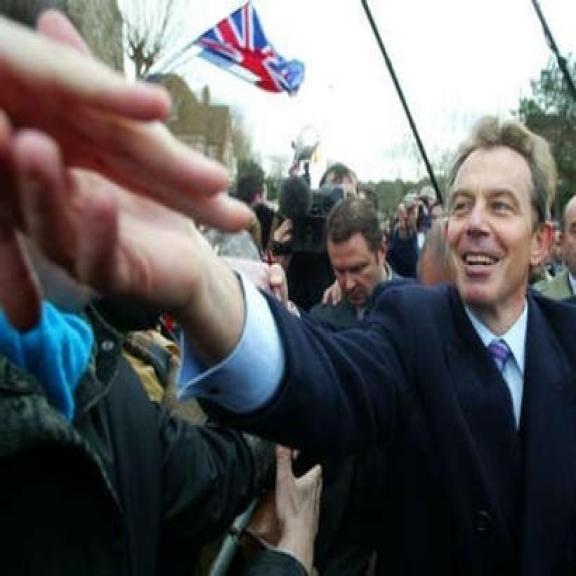face: (444, 142, 553, 313), (321, 224, 393, 314)
